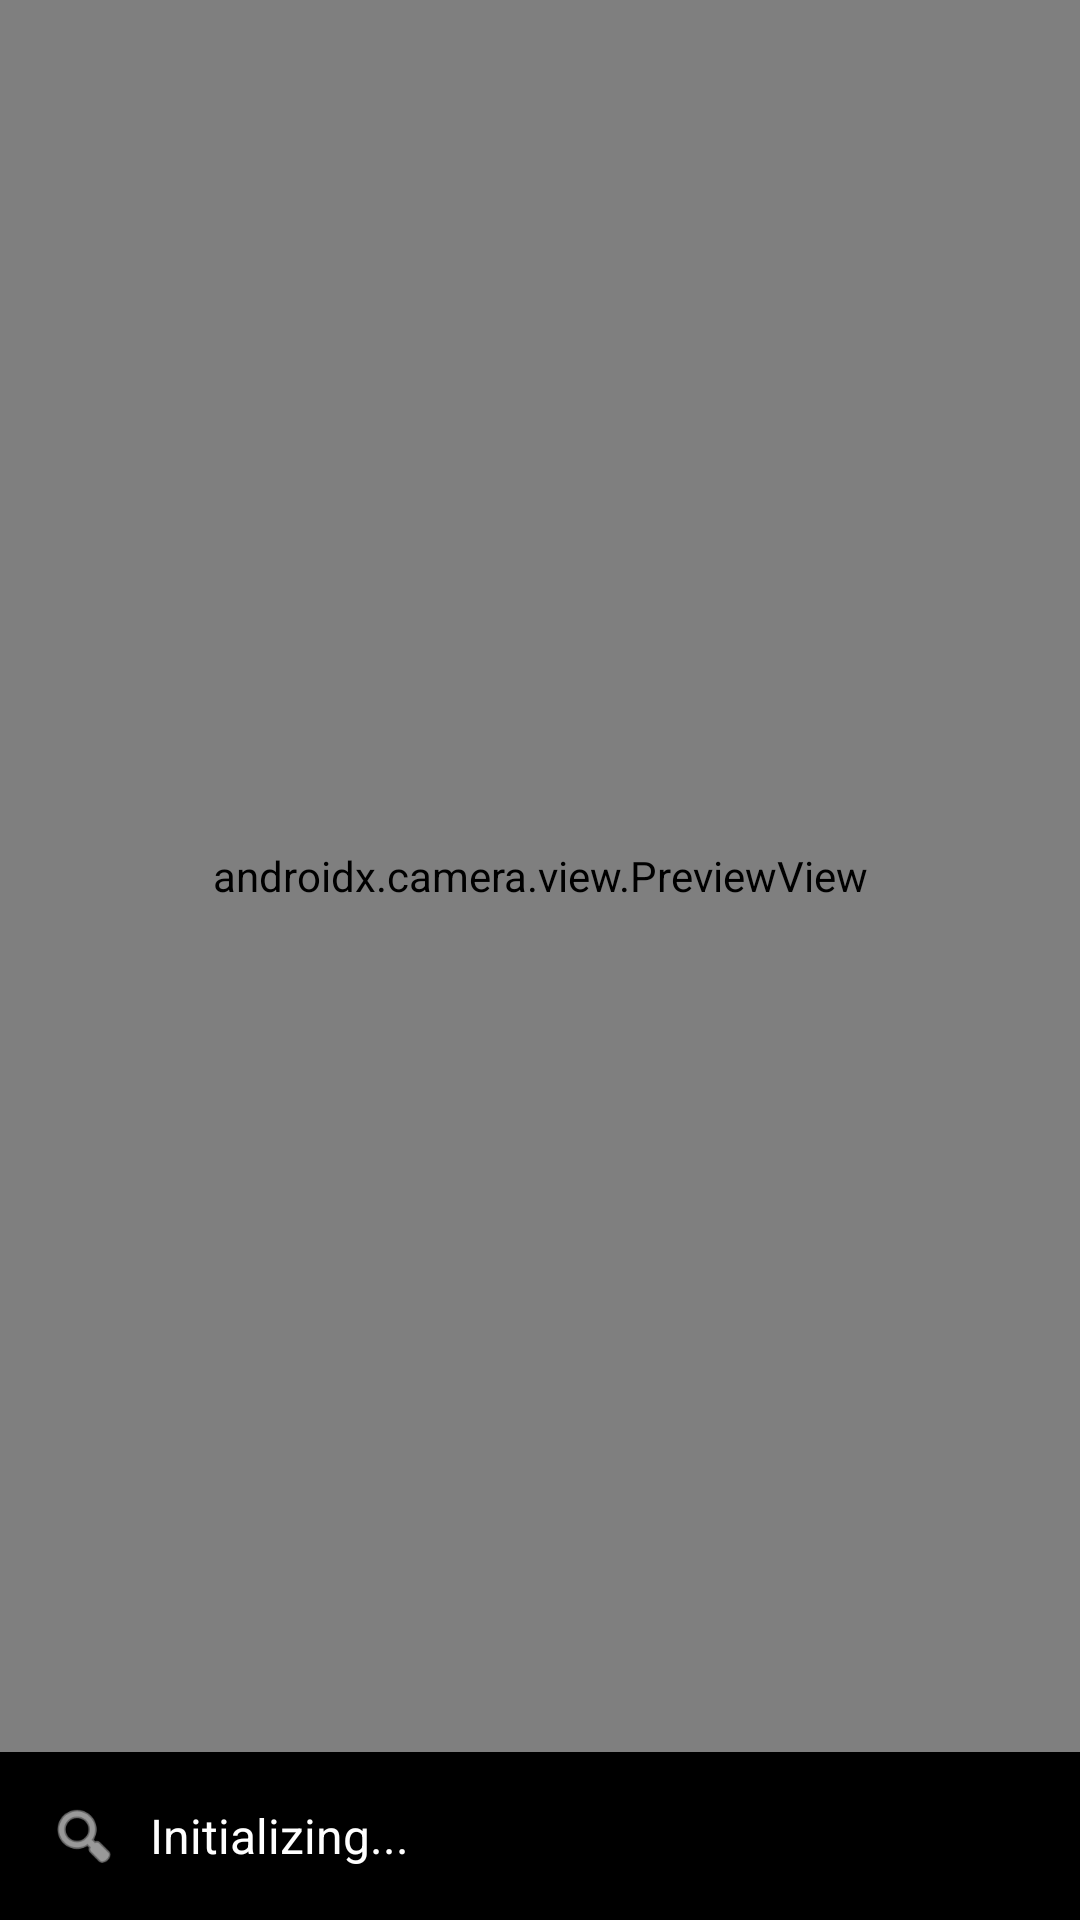

Screen size 1080×1920. Icon name, then its box in pixels as (x1, y1, x2, y2):
search: (57, 1810, 111, 1863)
